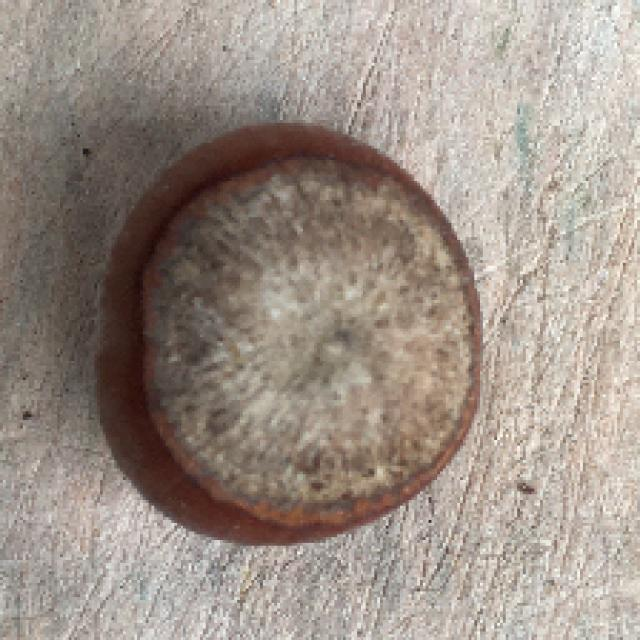qualityHazelnut: (86, 117, 486, 548)
